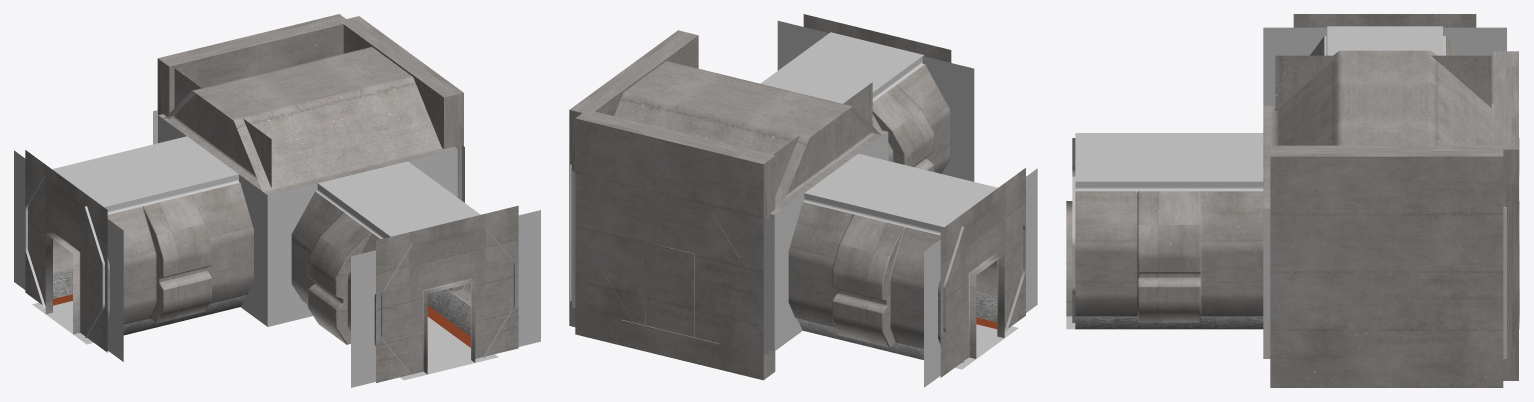
Rendered from HC_room2C.gltf.
The picture shows the model from 3 angles, left to right: view 1: azimuth 30°, elevation 25°; view 2: azimuth 150°, elevation 25°; view 3: azimuth 270°, elevation 25°; orthographic projection. The views are drawn at different scales.
Visible parts, largest first — view 1: Room4_Curve.002, Cube.001, Cube__1_.001; view 2: Room4_Curve.002, Cube.001, Cube__1_.001; view 3: Room4_Curve.002, Cube__1_.001, Cube.001.
Boxes of the visible parts, x1,y1,x2,y2 form: Room4_Curve.002: (14,47,540,387); Cube.001: (157,14,345,142); Cube__1_.001: (340,16,463,200); Room4_Curve.002: (570,14,1037,387); Cube.001: (575,111,775,380); Cube__1_.001: (569,30,698,326); Room4_Curve.002: (1066,14,1519,358); Cube__1_.001: (1270,145,1503,387); Cube.001: (1493,51,1518,380).
Bounding box in the file's own units: 14.8 × 8.34 × 14.82.
